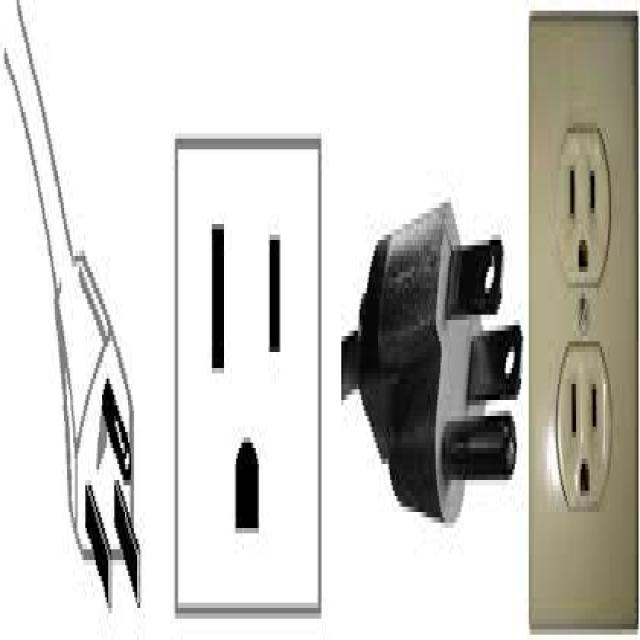type_b: (178, 145, 319, 613), (557, 119, 611, 290), (558, 341, 611, 506)
